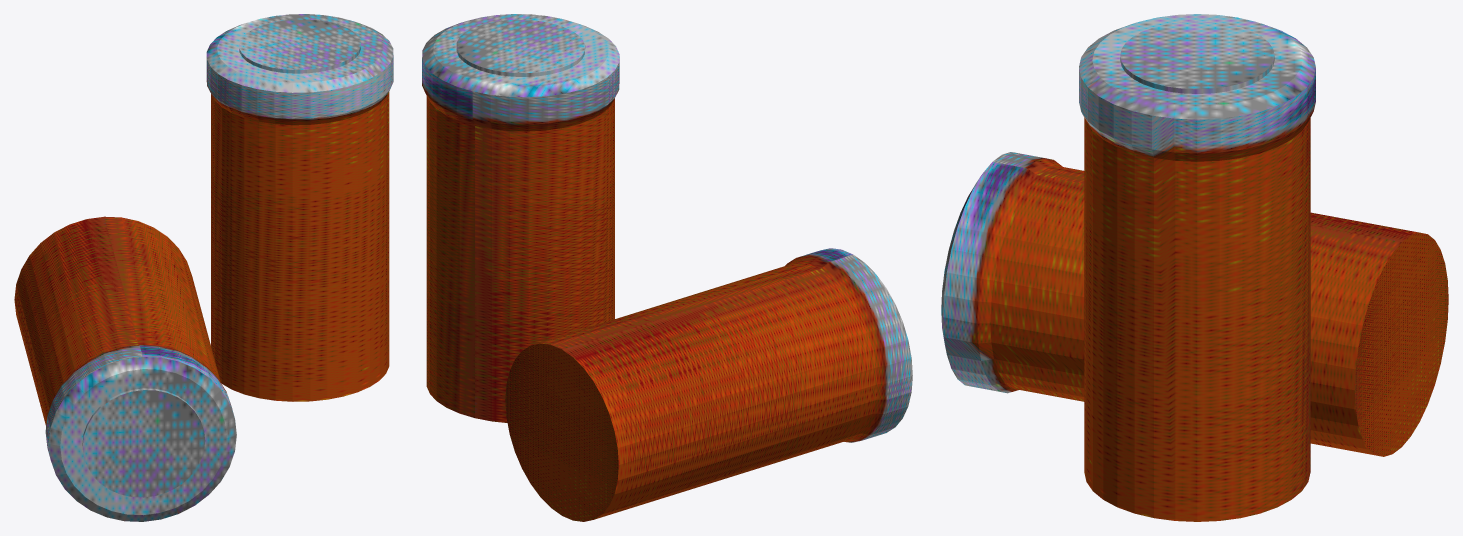
File: ammo.fbx
3 views of the same model, side by side, from view 1: azimuth 30°, elevation 25°; view 2: azimuth 150°, elevation 25°; view 3: azimuth 270°, elevation 25° (orthographic). The views are drawn at different scales.
Parts seen in each view (by area): view 1: ammo; view 2: ammo; view 3: ammo.
Part boxes in pixels (<box>): ammo: <box>14,14,393,521</box>; ammo: <box>422,14,912,521</box>; ammo: <box>941,14,1448,521</box>.
Bounding box in the file's own units: 10.5 × 9.24 × 9.01.
Materials: 2 (2 with a texture image).
